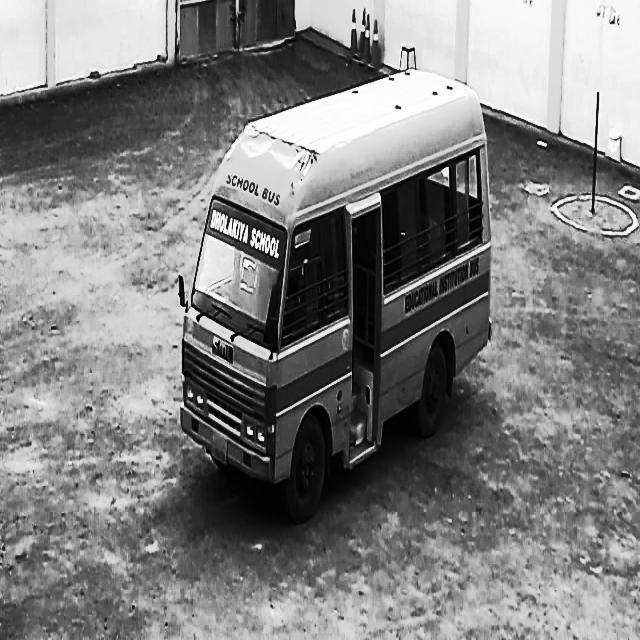Bus: (174, 56, 504, 529)
